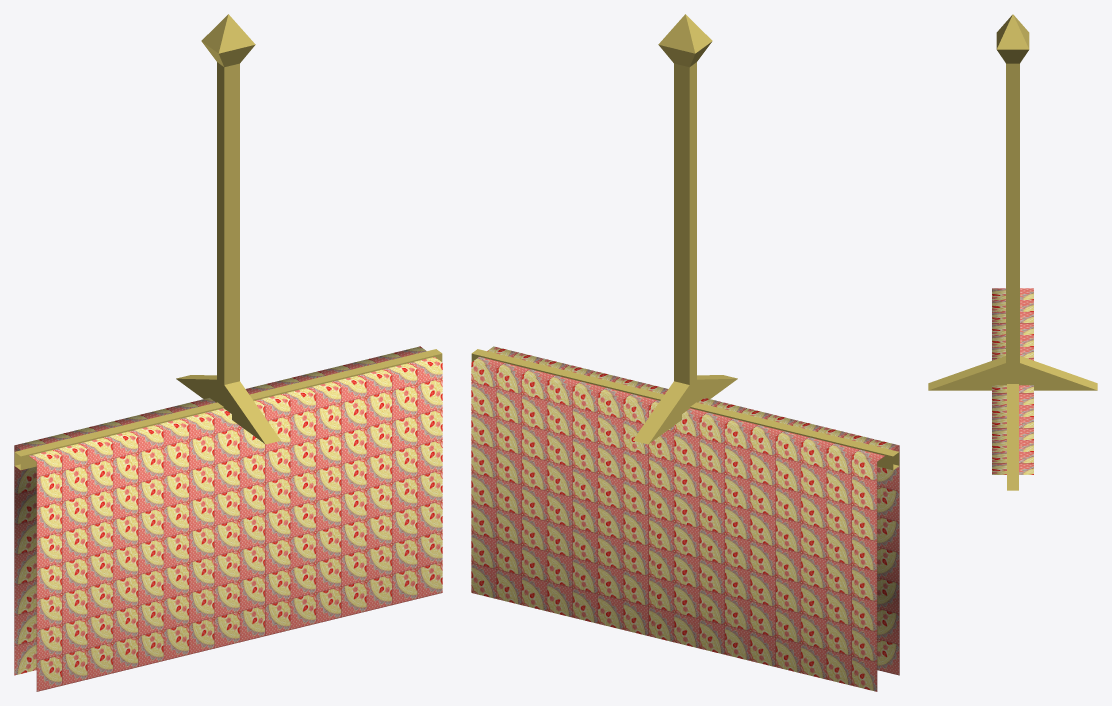
Rendered from 4672floor_r.gltf.
3 views of the same model, side by side, from view 1: azimuth 30°, elevation 25°; view 2: azimuth 150°, elevation 25°; view 3: azimuth 270°, elevation 25° (orthographic). The views are drawn at different scales.
Visible parts, largest first — view 1: 4672floor_r; view 2: 4672floor_r; view 3: 4672floor_r.
Part boxes in pixels (left/top/right/bottom): 4672floor_r: left=14, top=14, right=442, bottom=691; 4672floor_r: left=471, top=14, right=899, bottom=691; 4672floor_r: left=928, top=14, right=1097, bottom=490.
Bounding box in the file's own units: 1.59 × 2.23 × 0.5869.
Materials: 2 (1 with a texture image).
